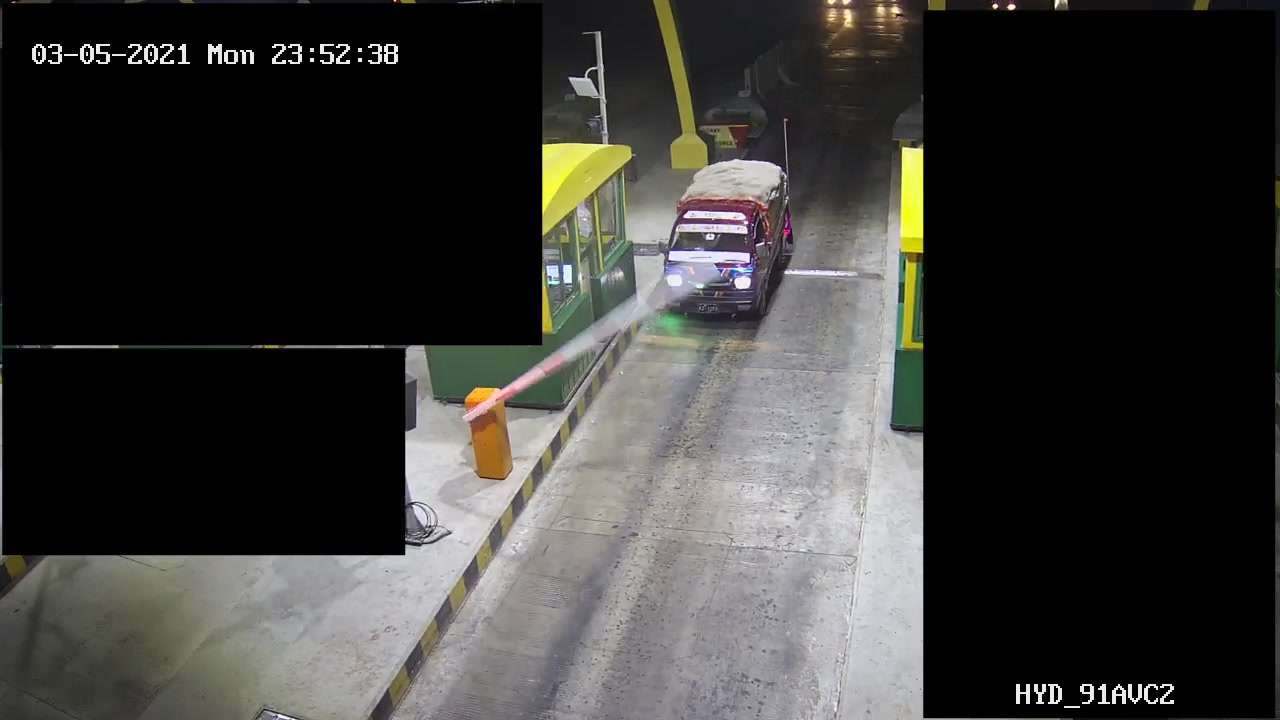F1: (660, 151, 794, 337)
